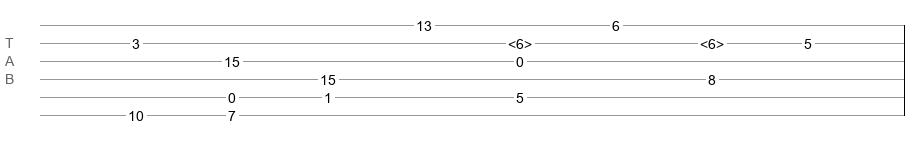0: (228, 90, 236, 100), (516, 54, 524, 64)
1: (324, 90, 332, 100)
10: (128, 108, 144, 118)
13: (416, 18, 432, 28)
15: (224, 54, 240, 64), (320, 72, 336, 82)
3: (132, 36, 140, 46)
5: (516, 90, 524, 100), (804, 36, 812, 46)
6: (612, 18, 620, 28)
7: (228, 108, 236, 118)
8: (708, 72, 716, 82)
harmonic: (508, 36, 532, 46), (700, 36, 724, 46)
